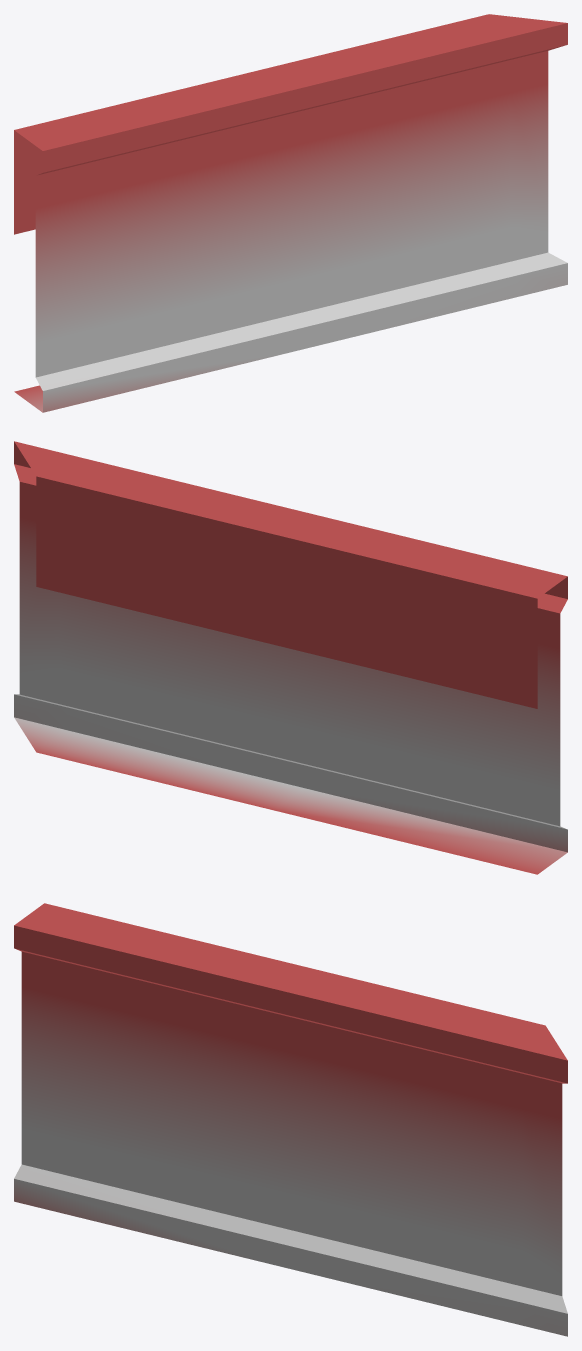
File: Cornice_Metal_R.gltf
3 renders of one model, top to bottom at view 1: azimuth 30°, elevation 25°; view 2: azimuth 150°, elevation 25°; view 3: azimuth 330°, elevation 25°, orthographic. The views are drawn at different scales.
Parts seen in each view (by area): view 1: Cornice_Metal_R; view 2: Cornice_Metal_R; view 3: Cornice_Metal_R.
Part boxes in pixels (left/top/right/bottom): Cornice_Metal_R: left=14, top=14, right=567, bottom=412; Cornice_Metal_R: left=14, top=441, right=567, bottom=874; Cornice_Metal_R: left=14, top=903, right=567, bottom=1336.
Size of what is drawn, in the model's own units: 2.1 by 1 by 0.2.
